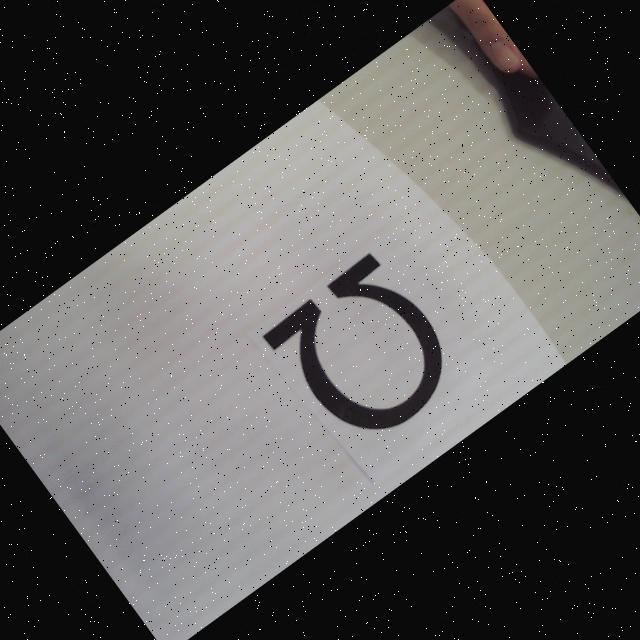OMEGA: (259, 247, 469, 460)
